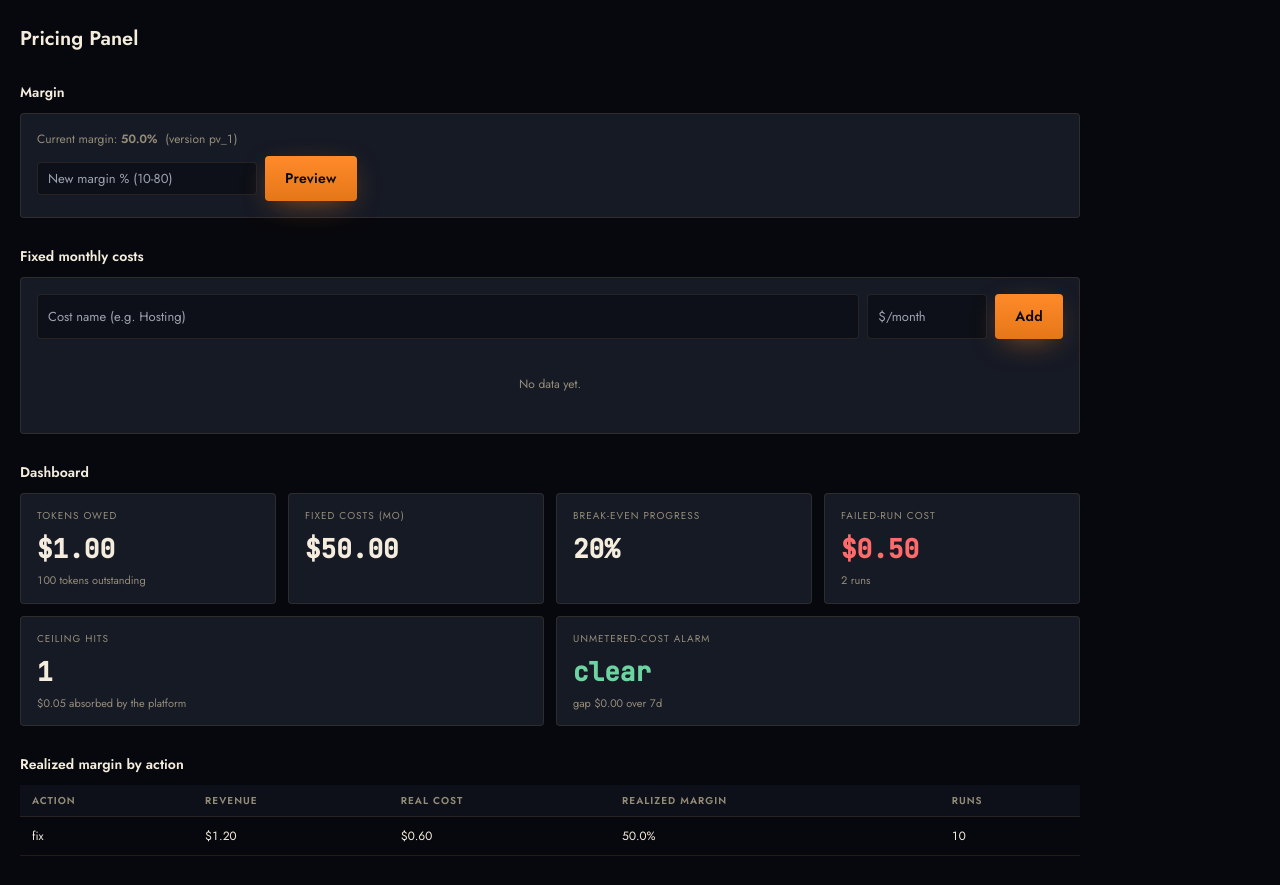
Test case: AdminPricingPanel › preview then confirm applies a new margin
The width and height of the screenshot is (1280, 885).
Later steps or results of the test are not shown.
Expected: the text "50.0%" is shown, [121,130,157,148]
Type "60" into the number field with test id "margin-input" at (147, 179), box [37,162,257,195]
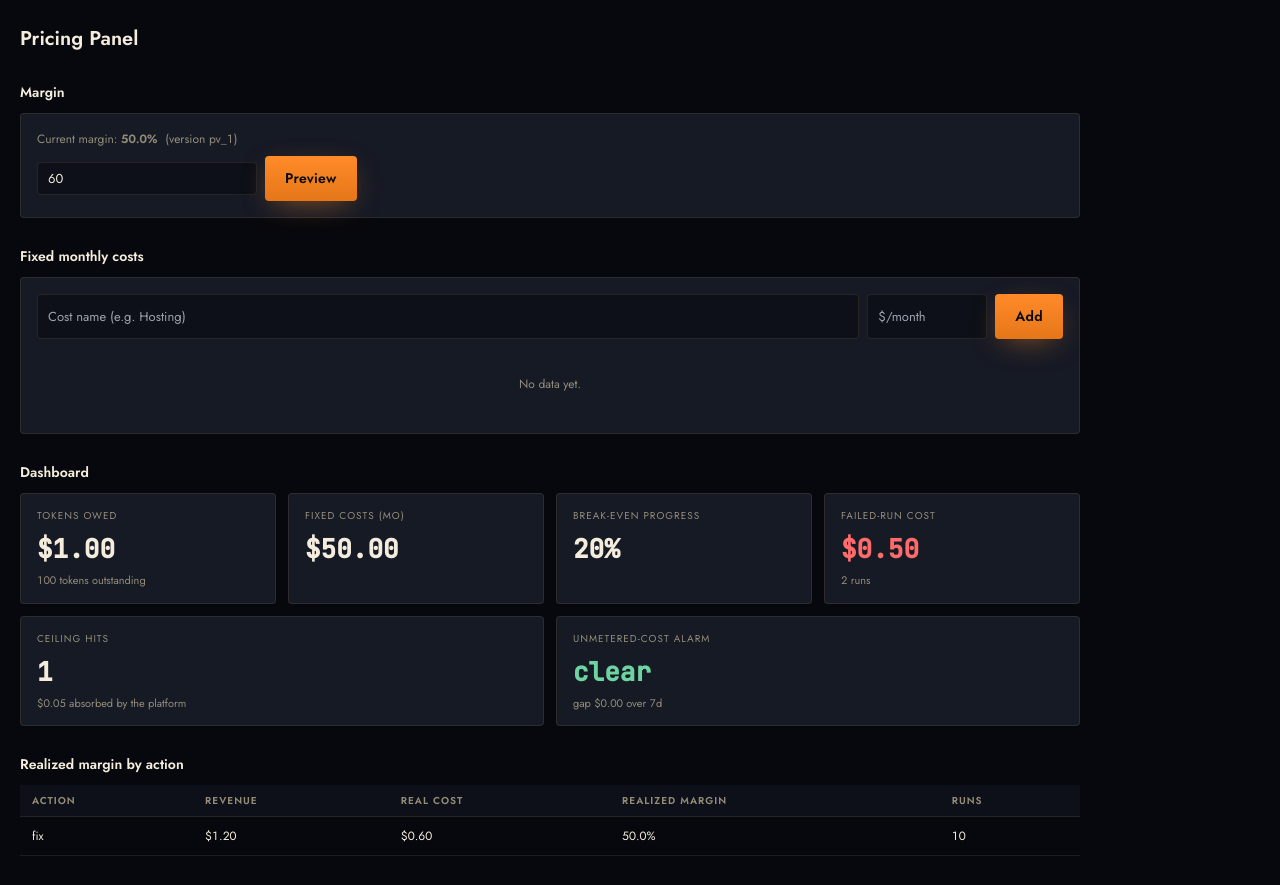
Click the button with test id "margin-preview-btn" at (311, 178), box [265,156,356,201]
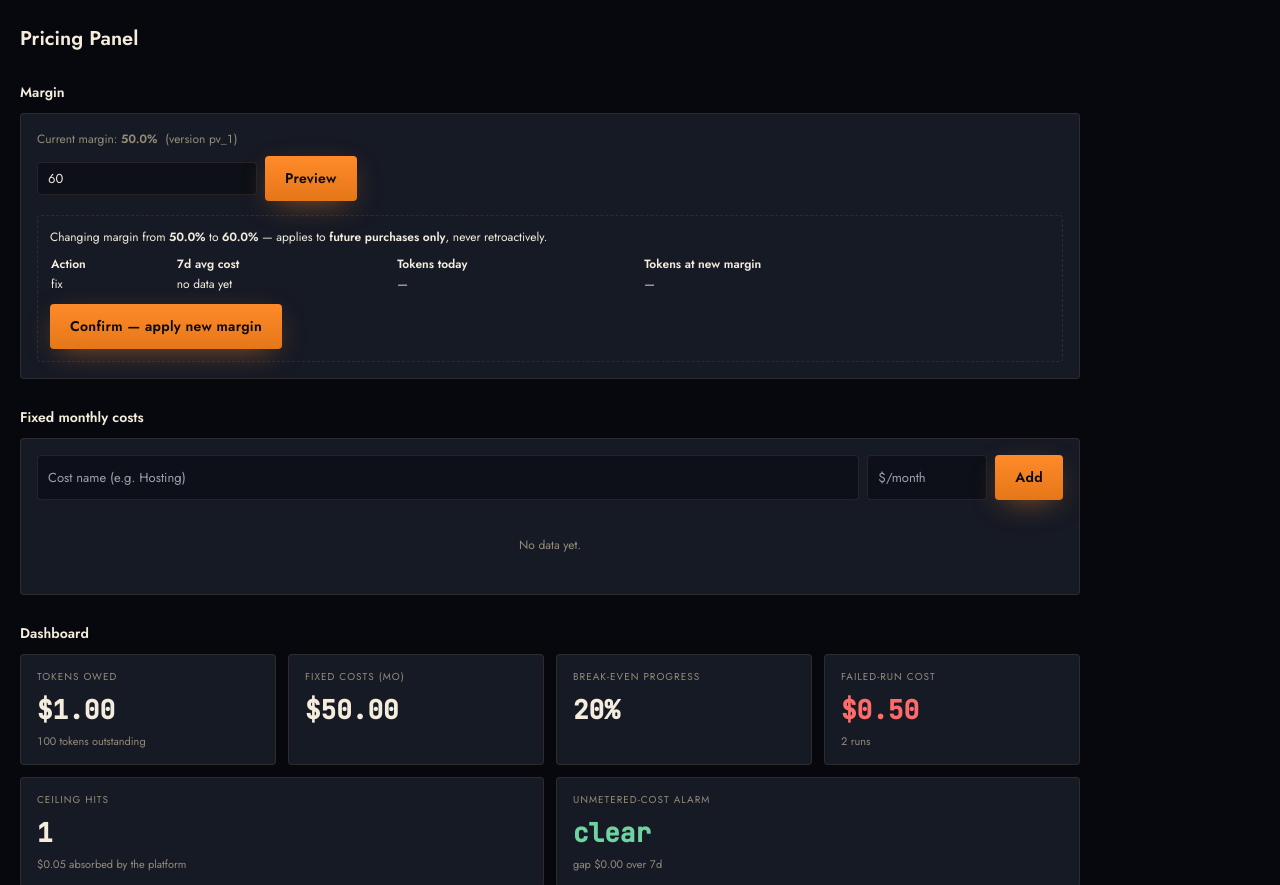
Expected: the element with test id "margin-preview-block" is shown, [37,215,1063,362]
